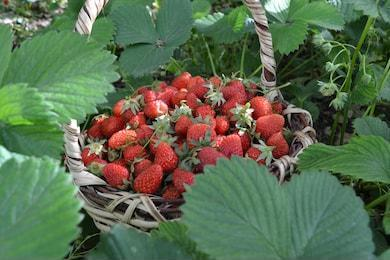Fresa: (132, 160, 165, 199), (249, 110, 287, 143), (99, 159, 133, 194), (183, 120, 219, 152), (151, 139, 181, 176), (81, 137, 111, 169), (223, 100, 255, 129)
